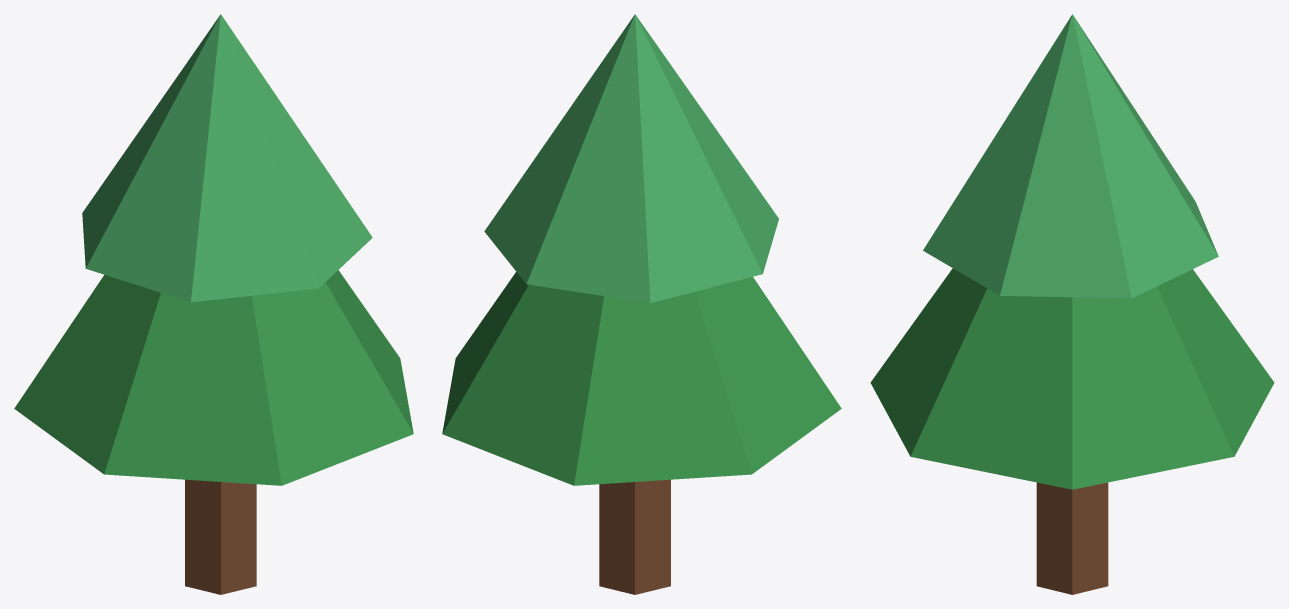
Rendered from arvore.glb.
The picture shows the model from 3 angles, left to right: view 1: azimuth 30°, elevation 25°; view 2: azimuth 150°, elevation 25°; view 3: azimuth 270°, elevation 25°; orthographic projection.
Parts seen in each view (by area): view 1: copa, copa2, tronco; view 2: copa, copa2, tronco; view 3: copa, copa2, tronco.
Part boxes in pixels (bbox=[...]): copa: bbox=[14, 270, 413, 485]; copa2: bbox=[82, 14, 372, 302]; tronco: bbox=[185, 479, 256, 594]; copa: bbox=[442, 271, 841, 485]; copa2: bbox=[484, 14, 778, 303]; tronco: bbox=[599, 479, 670, 594]; copa: bbox=[870, 268, 1274, 489]; copa2: bbox=[923, 14, 1218, 298]; tronco: bbox=[1036, 482, 1108, 594].
Bounding box in the file's own units: 1.43 × 2.25 × 1.46.
